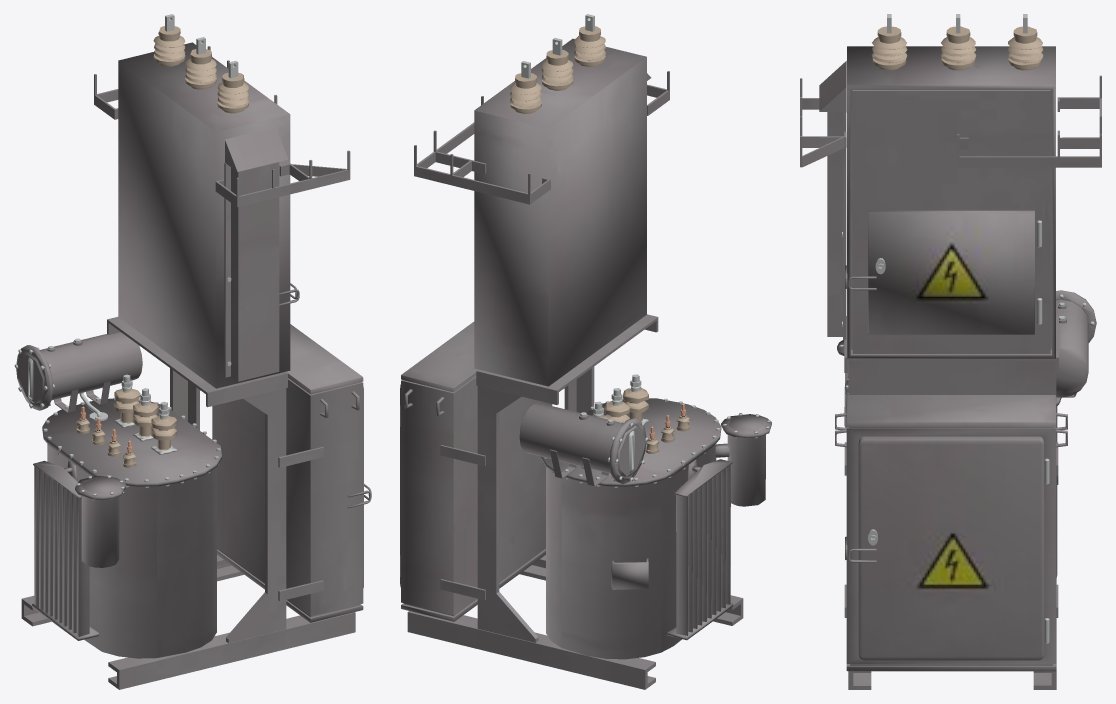
File: transformer-station.gltf
The picture shows the model from 3 angles, left to right: view 1: azimuth 30°, elevation 25°; view 2: azimuth 150°, elevation 25°; view 3: azimuth 270°, elevation 25°; orthographic projection. The views are drawn at different scales.
Parts seen in each view (by area): view 1: Sketchfab_model; view 2: Sketchfab_model; view 3: Sketchfab_model.
Part boxes in pixels (bbox=[...]): Sketchfab_model: bbox=[14, 14, 371, 689]; Sketchfab_model: bbox=[400, 14, 771, 689]; Sketchfab_model: bbox=[800, 14, 1101, 689].
Bounding box in the file's own units: 1.52 × 2.94 × 1.3.
5 materials, 2 textured.
